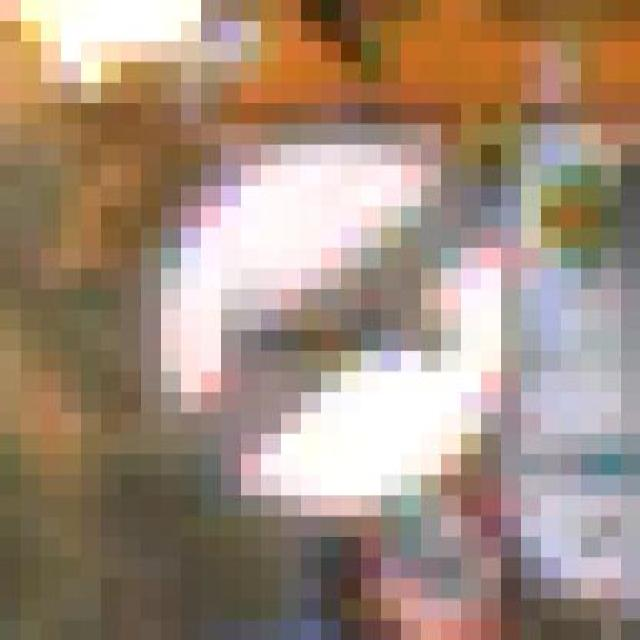No_Over_Taking: (80, 103, 580, 537)
